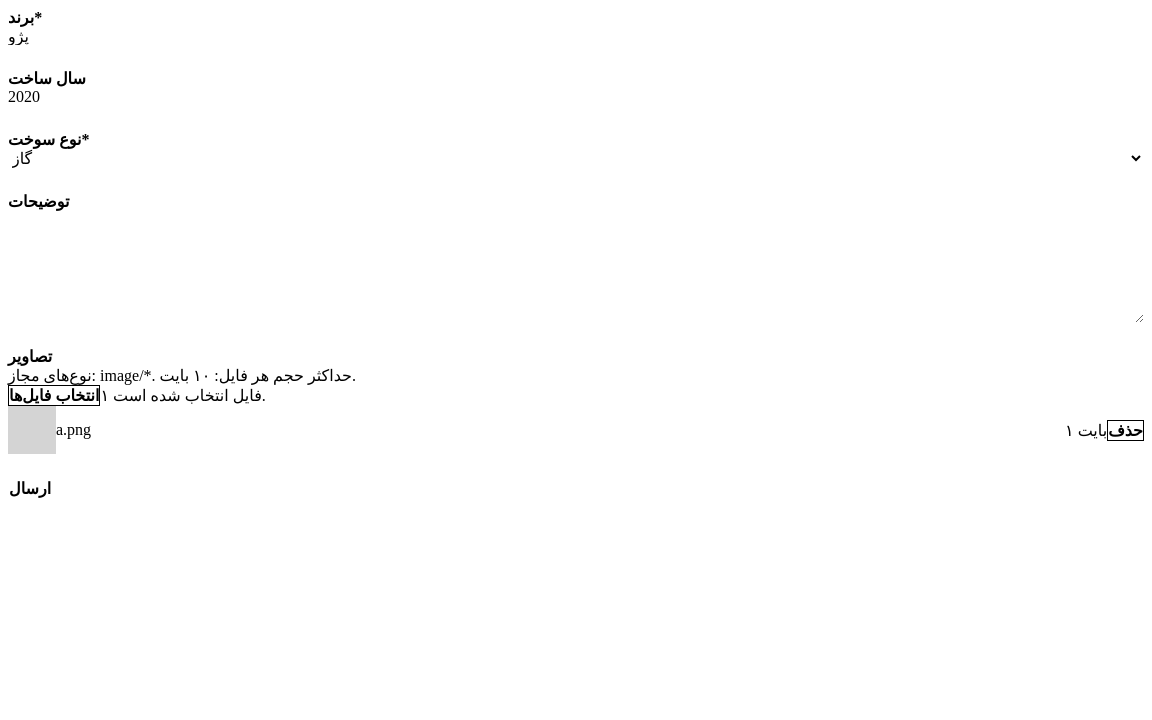
Test: a submit that bypasses the button › is ignored too while one is in flight (the engine guards itself, not only the button)
Earlier steps of the test are not shown.
Click the button "ارسال" at (30, 488), box x1=8 y1=478 x2=52 y2=499
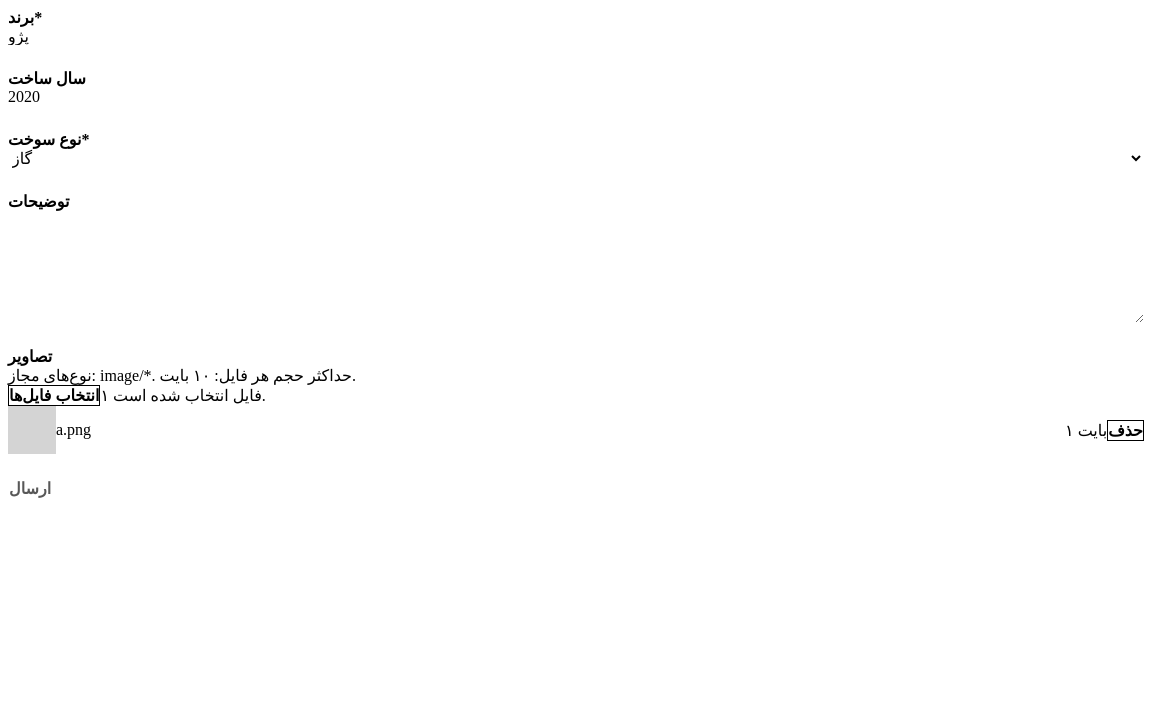
Expected: the button "ارسال" has attribute aria-busy="true", x1=8 y1=478 x2=52 y2=499
Submit the form
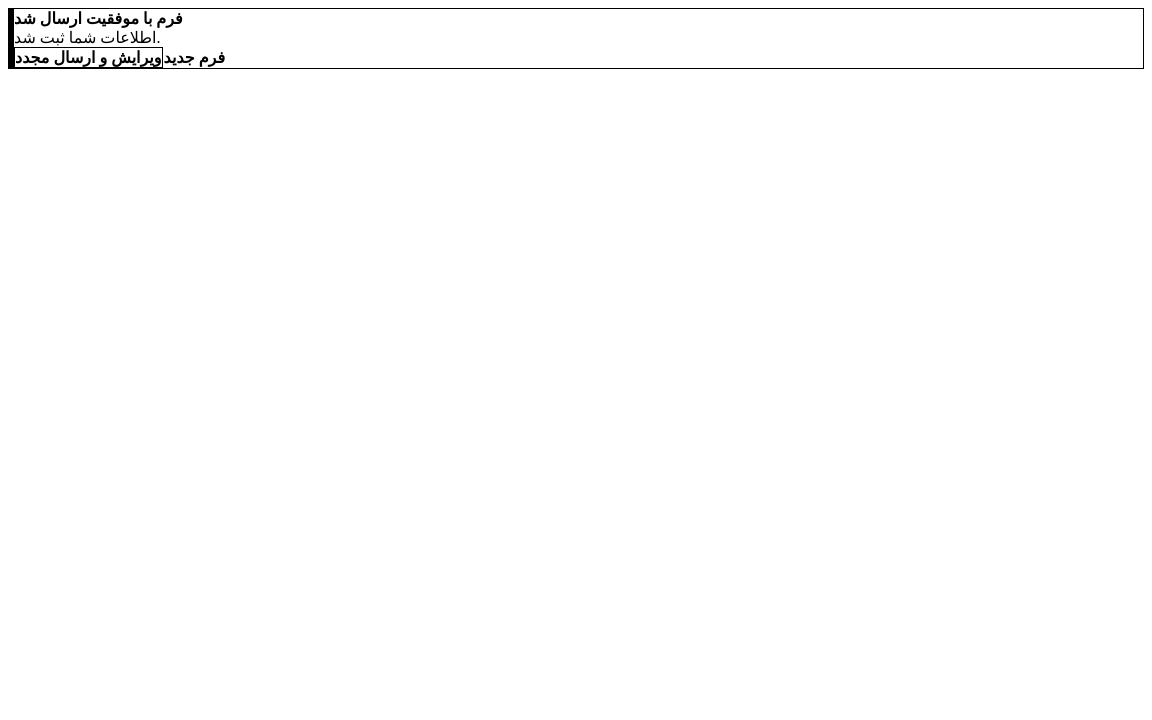
Expected: the message "فرم با موفقیت ارسال شد اطلاعات شما ثبت شد. ویرایش و ارسال مجدد فرم جدید" is shown, x1=8 y1=8 x2=1144 y2=69
